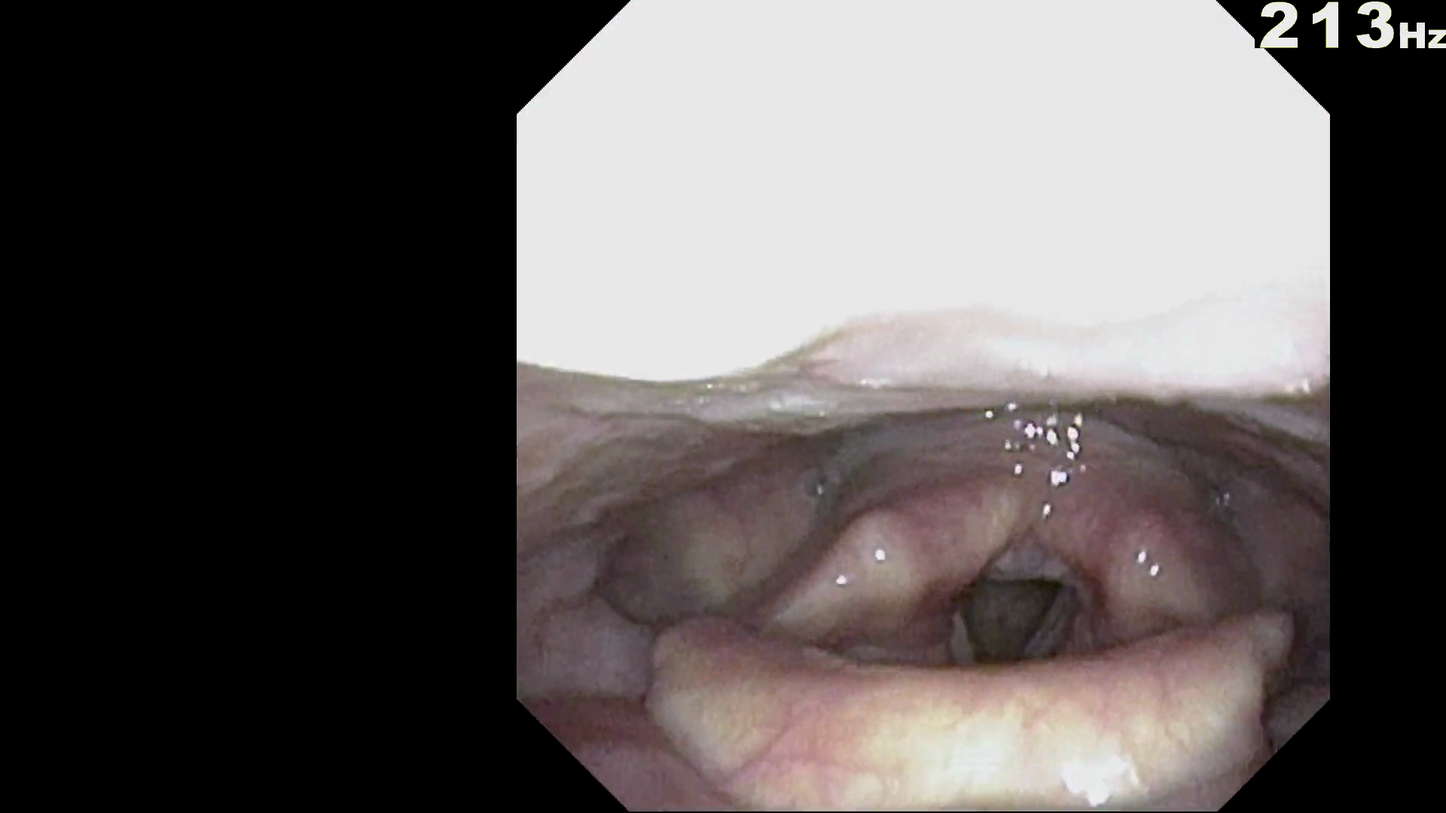epiglottis: (688, 658, 1230, 798)
trachea: (934, 569, 1063, 693)
